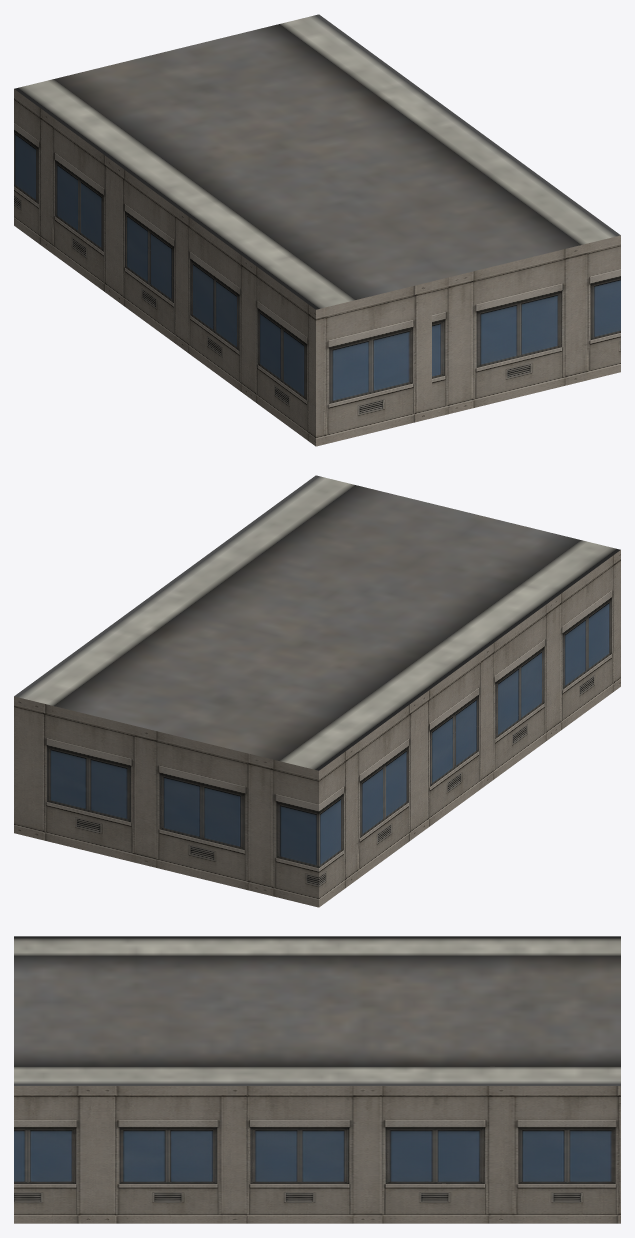
The model's file is building_light_09.glb.
3 renders of one model, top to bottom at view 1: azimuth 30°, elevation 25°; view 2: azimuth 150°, elevation 25°; view 3: azimuth 270°, elevation 25°, orthographic.
Visible parts, largest first — view 1: buildings/saxarba/building_light/building_light_09; view 2: buildings/saxarba/building_light/building_light_09; view 3: buildings/saxarba/building_light/building_light_09.
Part boxes in pixels (box(x1,y1,x2,y2)): buildings/saxarba/building_light/building_light_09: box(14, 14, 620, 446); buildings/saxarba/building_light/building_light_09: box(14, 475, 620, 907); buildings/saxarba/building_light/building_light_09: box(14, 936, 620, 1223).
Bounding box in the file's own units: 42 × 18 × 72.
